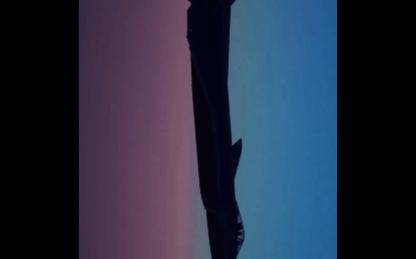F4: (183, 0, 259, 257)
